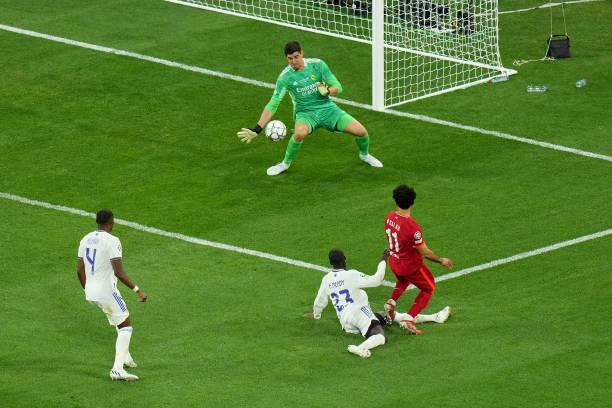Goalkeeper: (237, 41, 382, 176)
Player: (305, 249, 450, 358), (76, 208, 147, 381), (384, 185, 443, 335)
ball: (267, 120, 286, 142)
